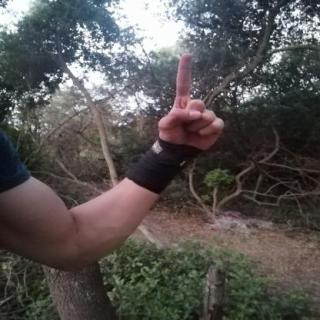BAA: (150, 40, 232, 158)
